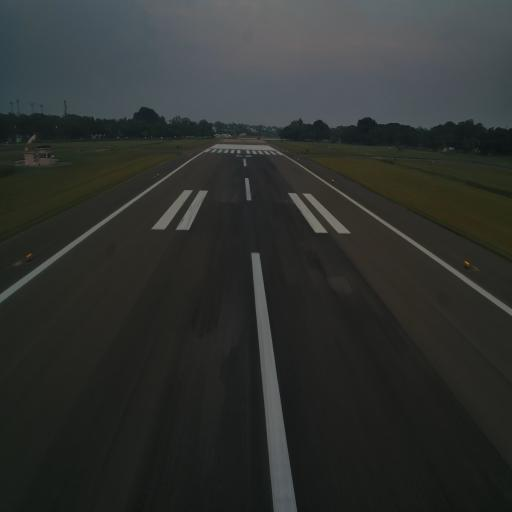on: (462, 259, 472, 271), (26, 249, 34, 261)
